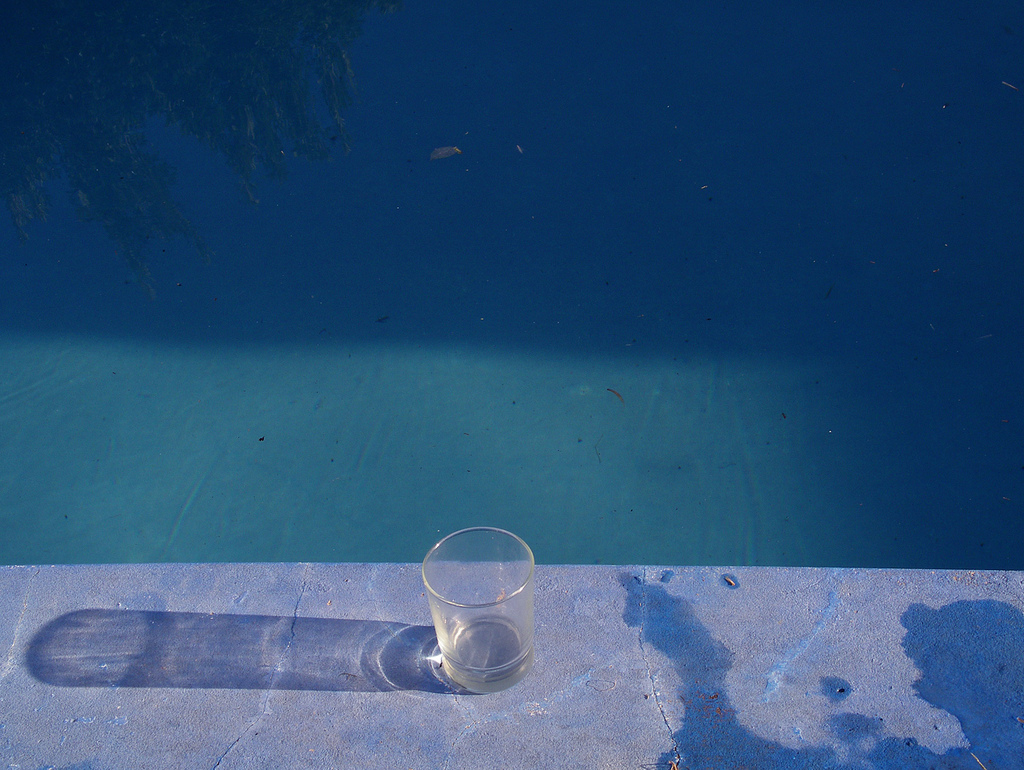glass of water: (411, 507, 546, 694)
